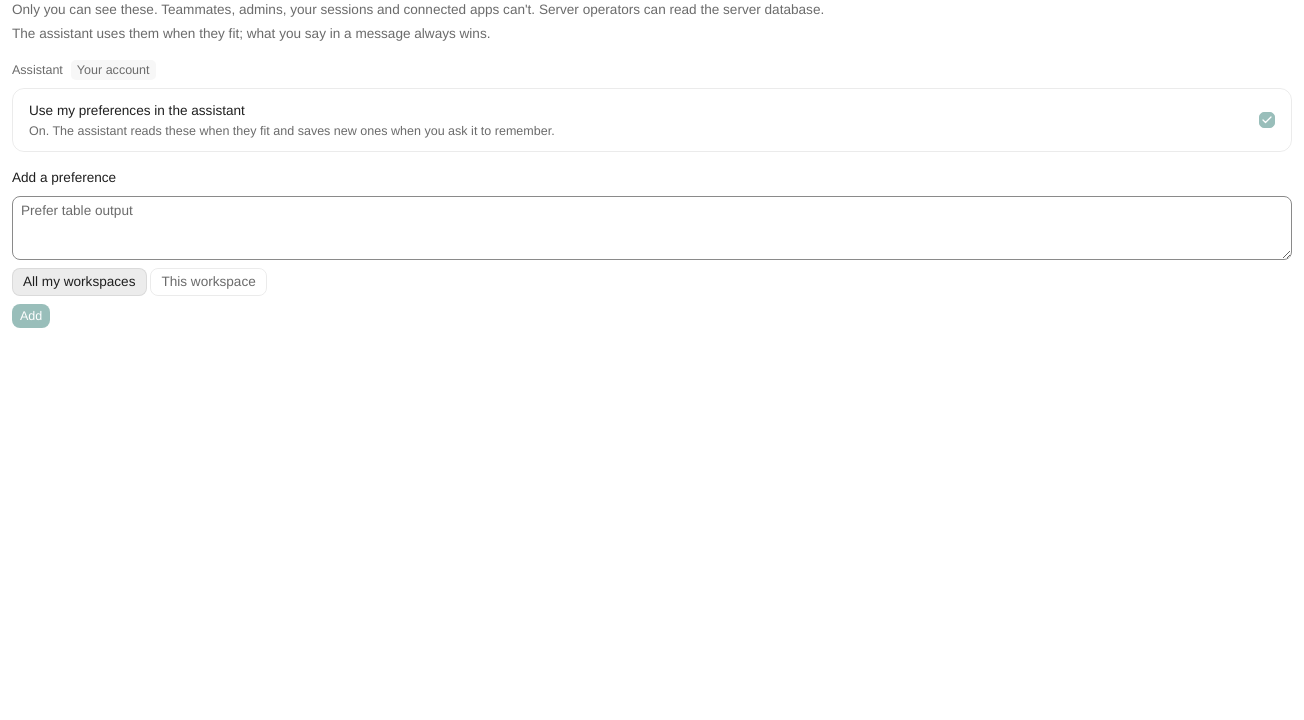
Test case: memory in settings › reads the list again when a save answers before an older read
Type "Reply in English please" into the text box named "Add a preference" at (652,228), box [12,196,1292,260]
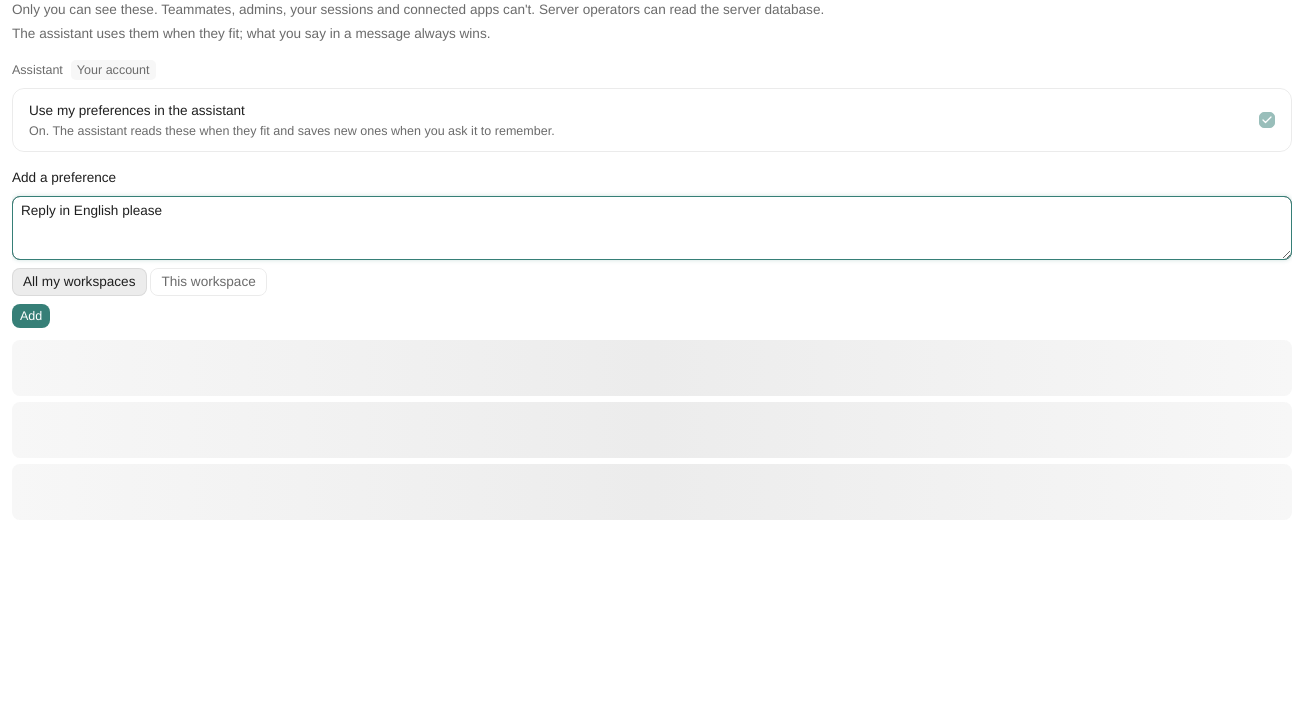
Click the button named "Add" at (31,316), box [12,304,50,328]
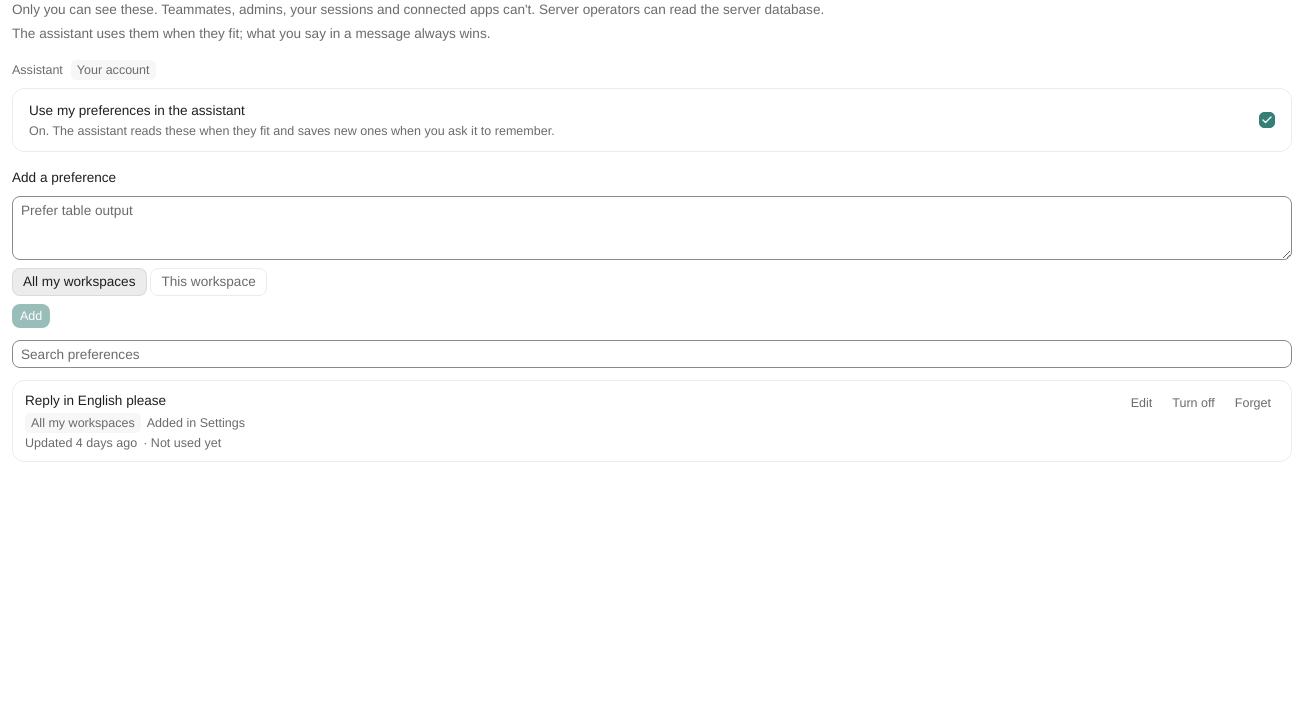
Now the 5th text "Reply in English please" is shown, box [25,392,166,409]
